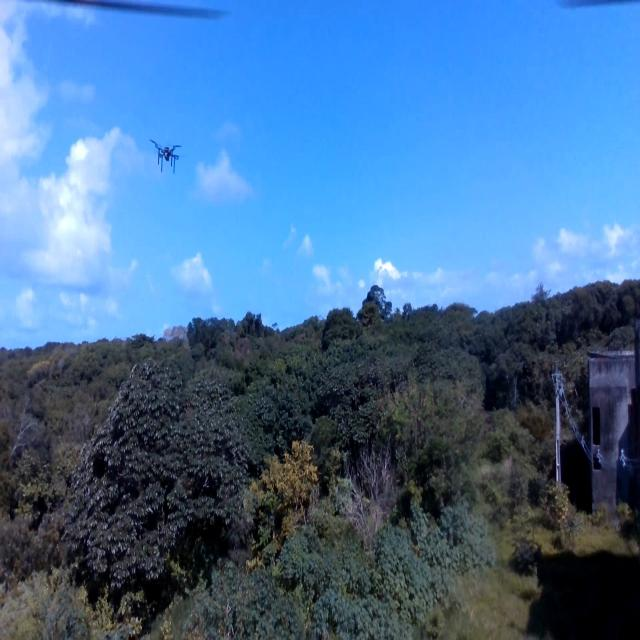-uav-: (148, 127, 190, 178)
